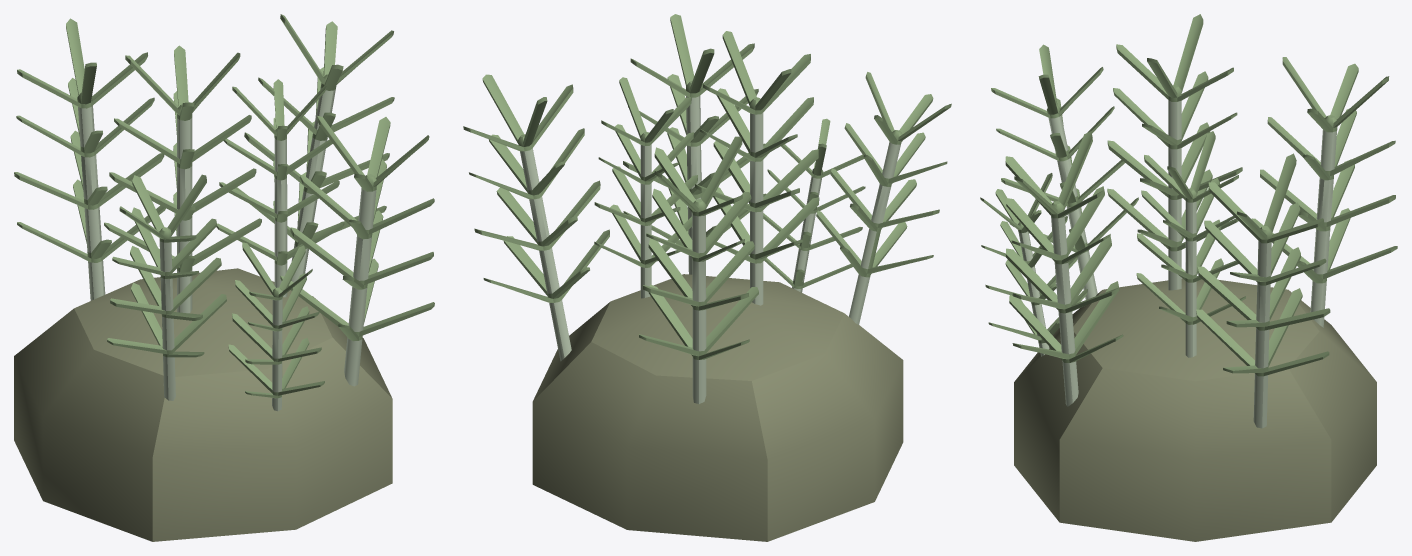
Rendered from romarin.fbx.
3 renders of one model, left to right at view 1: azimuth 30°, elevation 25°; view 2: azimuth 150°, elevation 25°; view 3: azimuth 270°, elevation 25°, orthographic. The views are drawn at different scales.
Parts seen in each view (by area): view 1: pCube11; view 2: pCube11; view 3: pCube11.
Part boxes in pixels (box(x1,y1,x2,y2)): pCube11: box(14, 14, 434, 541); pCube11: box(463, 14, 951, 541); pCube11: box(980, 14, 1397, 541).
Bounding box in the file's own units: 1.36 × 1.46 × 1.33.
